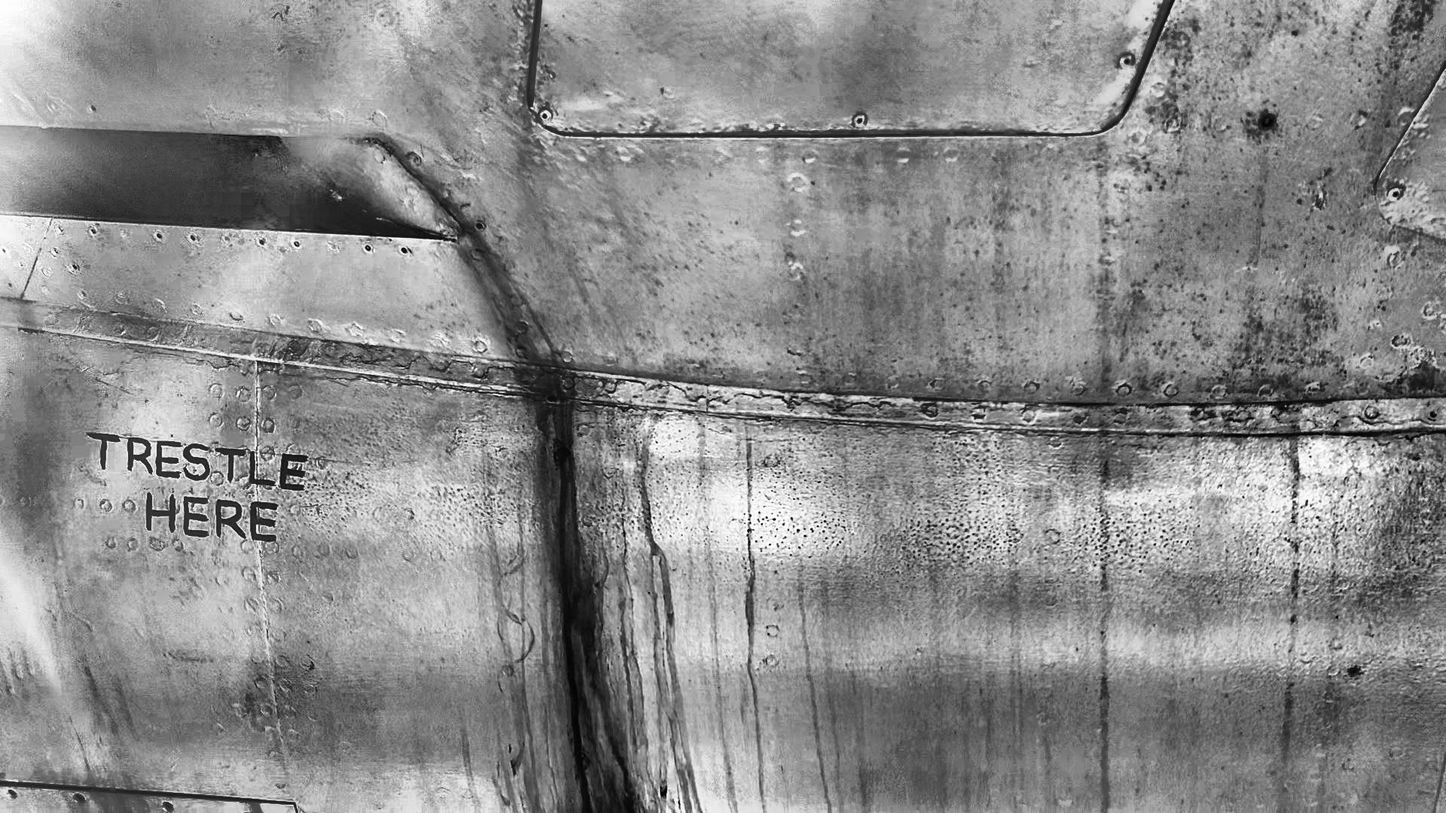missing-head: (398, 244, 413, 257), (363, 244, 374, 254), (291, 239, 303, 248), (474, 221, 485, 230), (154, 231, 164, 240), (257, 238, 266, 247), (88, 104, 97, 113), (190, 235, 196, 242)
paint-peel-off: (774, 391, 804, 411), (17, 327, 45, 335)
